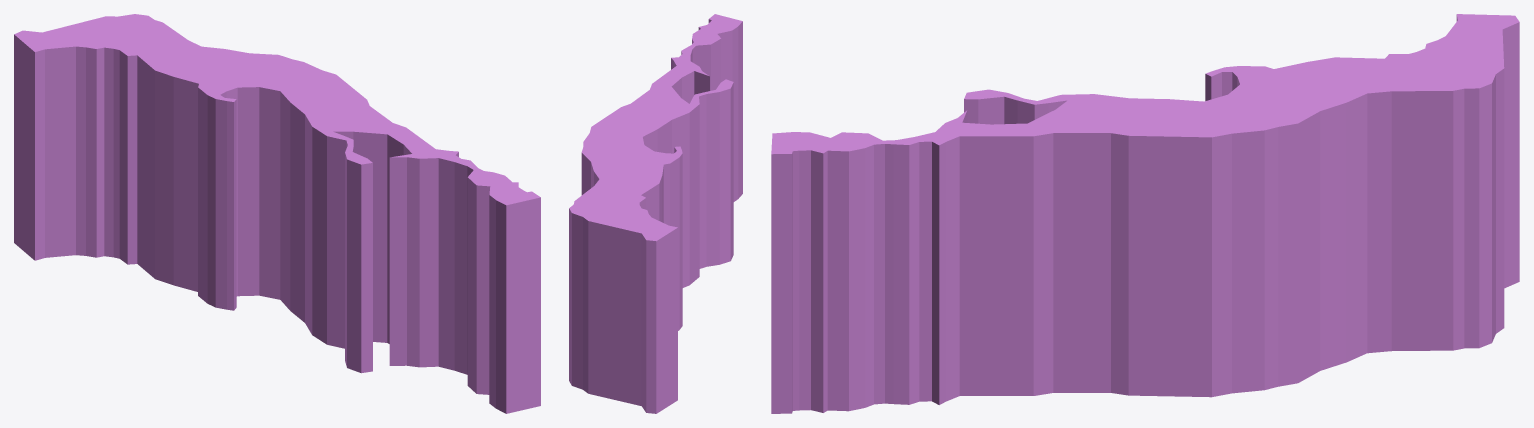
File: sea bright.glb
The picture shows the model from 3 angles, left to right: view 1: azimuth 30°, elevation 25°; view 2: azimuth 150°, elevation 25°; view 3: azimuth 270°, elevation 25°; orthographic projection. The views are drawn at different scales.
Parts seen in each view (by area): view 1: Plane.039; view 2: Plane.039; view 3: Plane.039.
Part boxes in pixels (x1,y1,x2,y2): Plane.039: (14, 14, 540, 413); Plane.039: (569, 14, 742, 413); Plane.039: (771, 14, 1519, 413).
Size of the model in its own units: 0.4463 by 0.3856 by 1.01.
